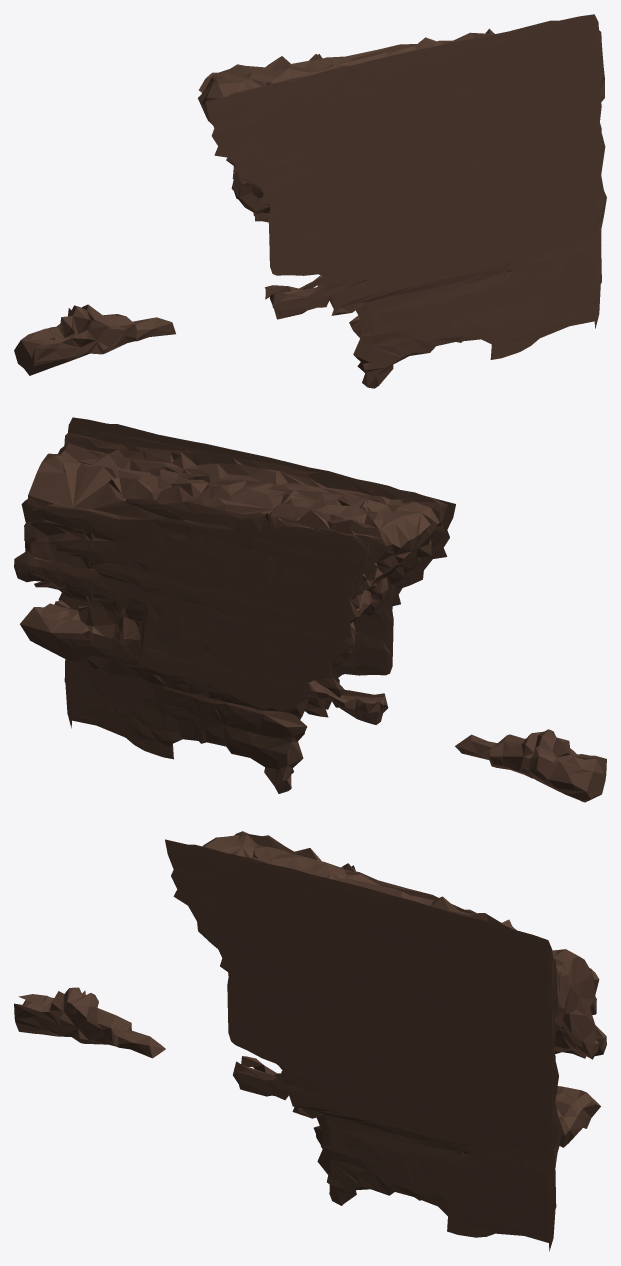
File: improved.glb
3 views of the same model, one above another, from view 1: azimuth 30°, elevation 25°; view 2: azimuth 150°, elevation 25°; view 3: azimuth 330°, elevation 25° (orthographic).
Parts seen in each view (by area): view 1: world; view 2: world; view 3: world.
Part boxes in pixels (x1,y1,x2,y2): world: [14, 14, 606, 388]; world: [14, 417, 606, 802]; world: [14, 831, 606, 1251].
Size of the model in its own units: 1.2 by 0.6709 by 0.144.
